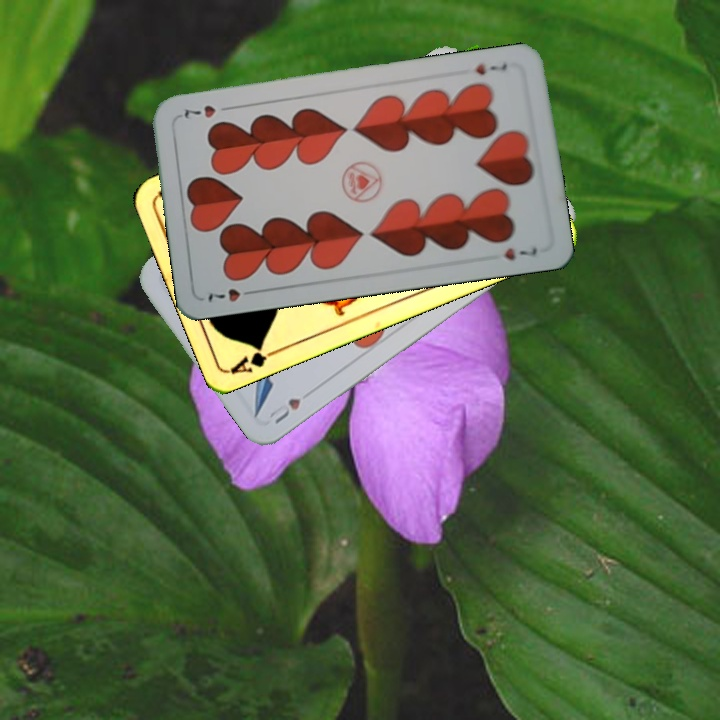GA: (227, 340, 284, 376)
H7: (204, 284, 260, 305), (471, 59, 510, 78)
HU: (265, 394, 304, 427)
